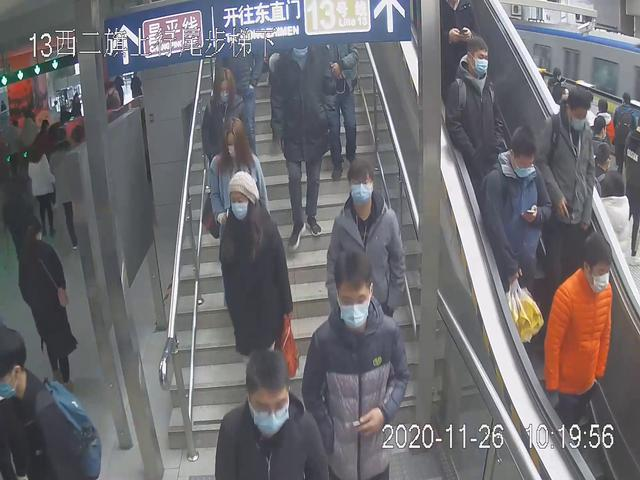person: (300, 242, 413, 480), (219, 162, 294, 405), (542, 227, 619, 456), (476, 121, 554, 347), (324, 160, 406, 348), (264, 37, 337, 248), (528, 80, 604, 282), (443, 27, 504, 200)
